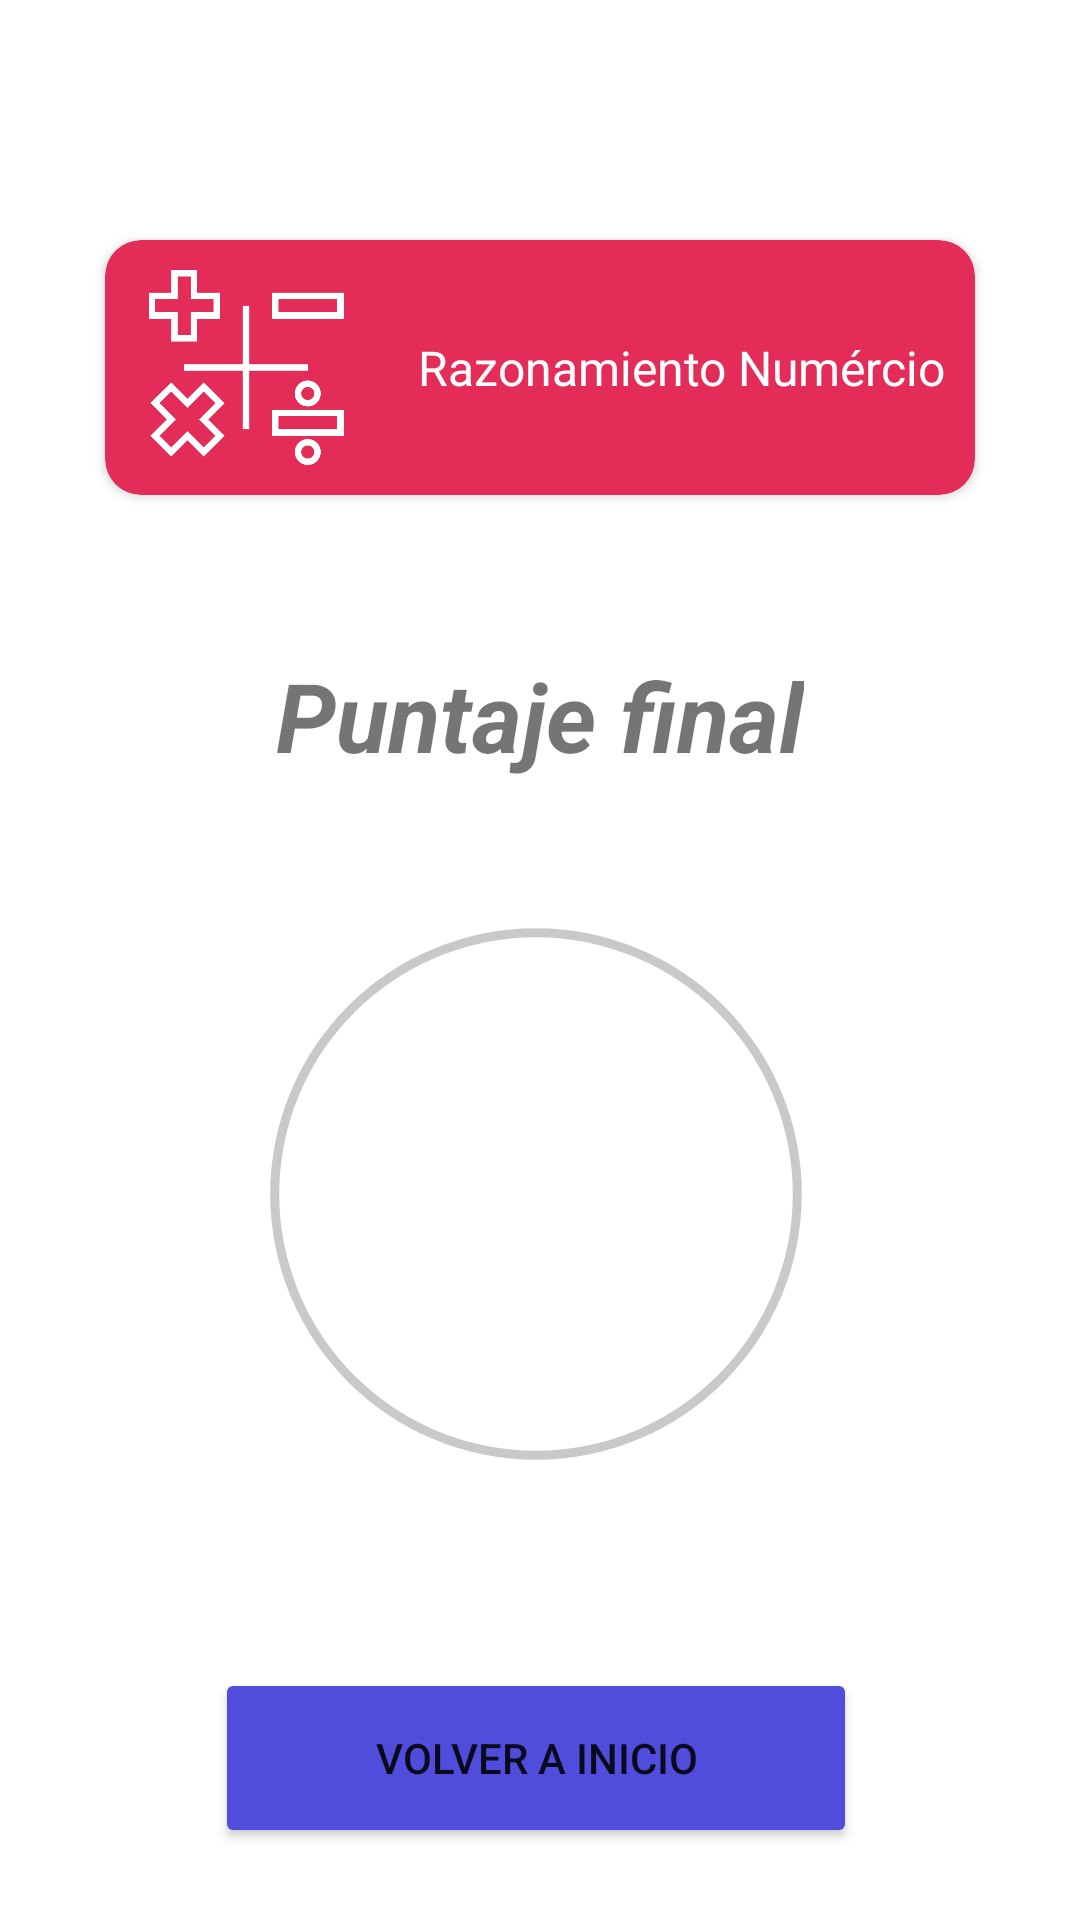

Icons on this 1080*1920 Android screen, each with its box as [x1, y1, x2, y2]:
numerico: [149, 270, 344, 465]
